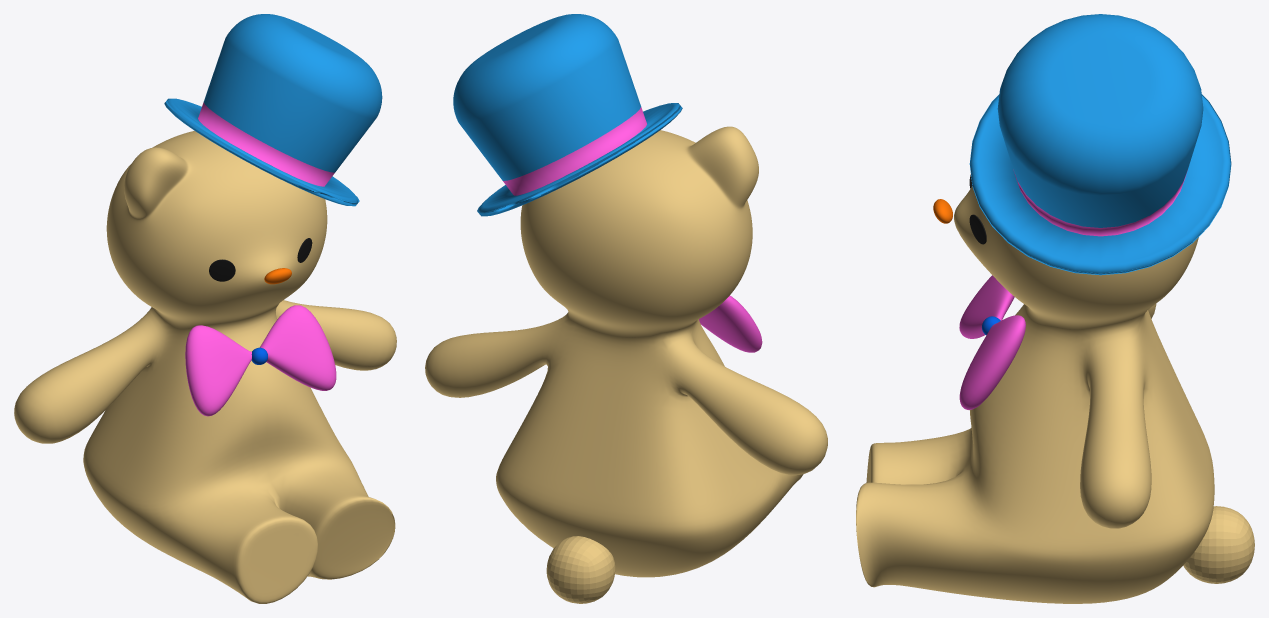
The model's file is teddybear.glb.
The picture shows the model from 3 angles, left to right: view 1: azimuth 30°, elevation 25°; view 2: azimuth 150°, elevation 25°; view 3: azimuth 270°, elevation 25°; orthographic projection. The views are drawn at different scales.
Parts seen in each view (by area): view 1: bear, hat, ribon, 円; view 2: bear, hat, 立方体.003, ribon; view 3: bear, hat, ribon, 立方体.003.
Boxes of the visible parts, left/top/right/bottom form: bear: left=14, top=131, right=396, bottom=603; hat: left=164, top=14, right=382, bottom=206; ribon: left=185, top=305, right=336, bottom=416; 円: left=209, top=238, right=312, bottom=281; bear: left=425, top=126, right=827, bottom=577; hat: left=453, top=14, right=682, bottom=216; 立方体.003: left=546, top=536, right=615, bottom=603; ribon: left=699, top=295, right=762, bottom=352; bear: left=856, top=186, right=1214, bottom=603; hat: left=969, top=14, right=1231, bottom=275; ribon: left=959, top=275, right=1025, bottom=409; 立方体.003: left=1183, top=506, right=1254, bottom=583.
Size of the model in its own units: 3.67 by 4.71 by 2.82.
